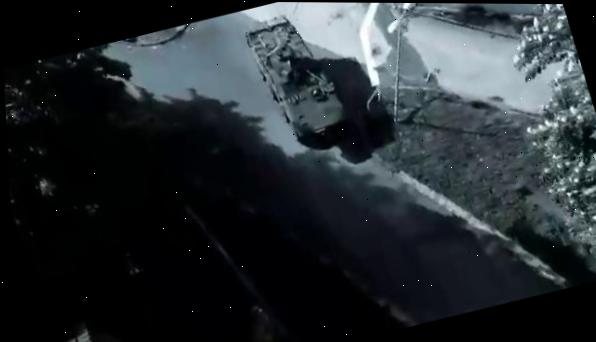tank: (239, 5, 356, 155)
